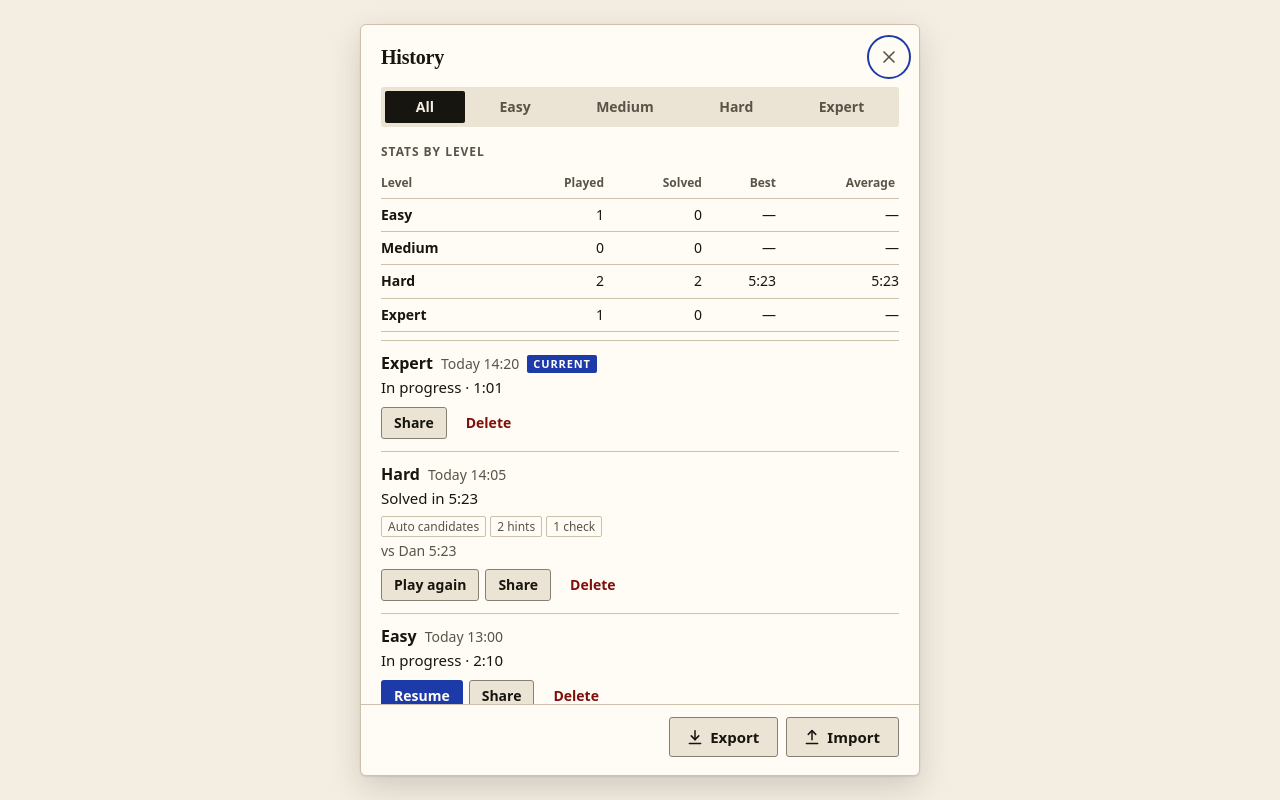
Test: HistoryDialog › filtering › says so when a tier has no games
What coordinates should you click on to do the following:
click the tab "Medium"
I would click on:
 (625, 107)
Its box is [565, 91, 684, 123].
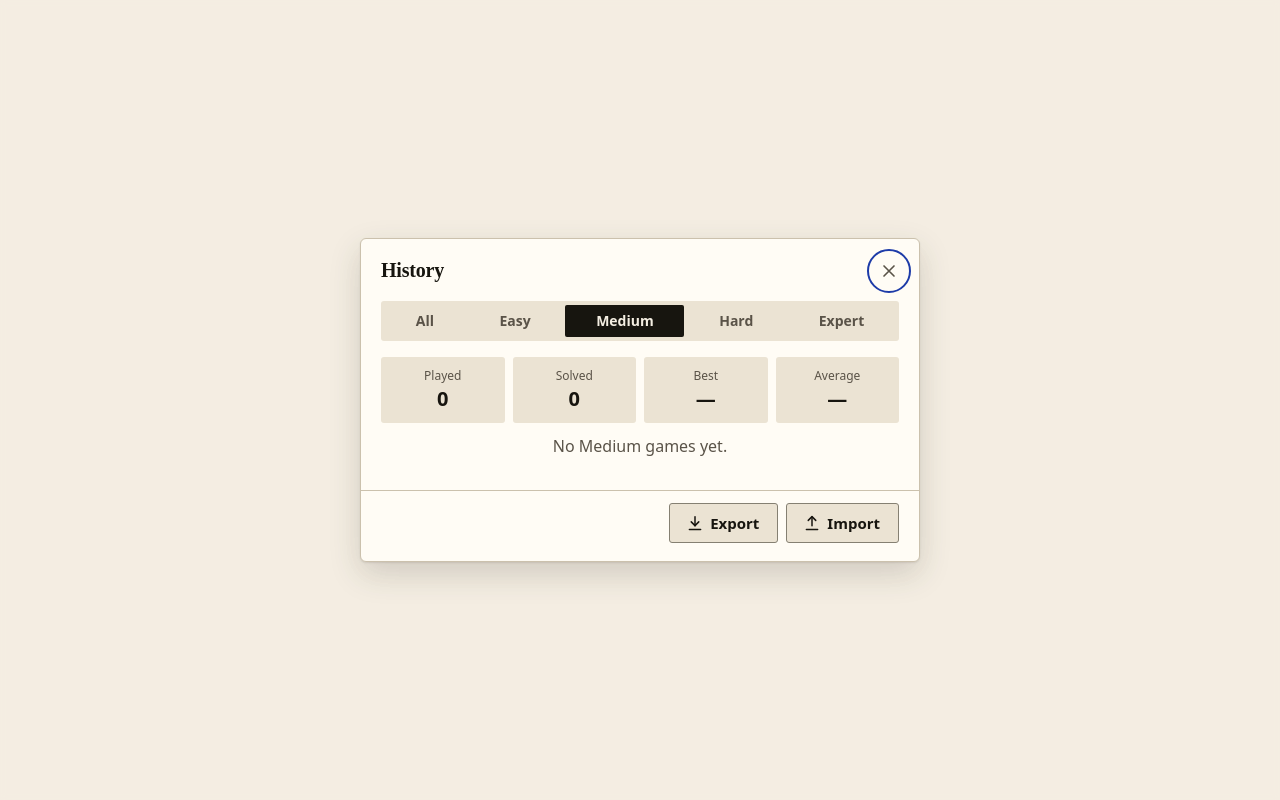
expect the panel shows "No Medium games yet.": met, box [381, 357, 899, 458]
